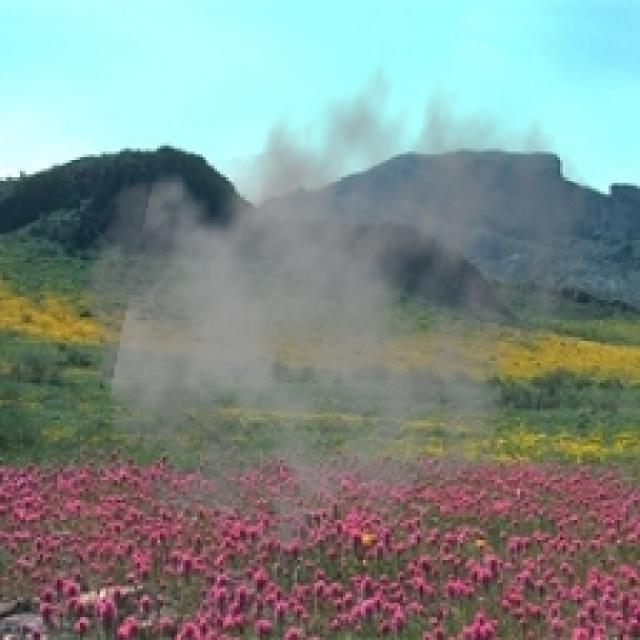smoke: (72, 43, 597, 574)
